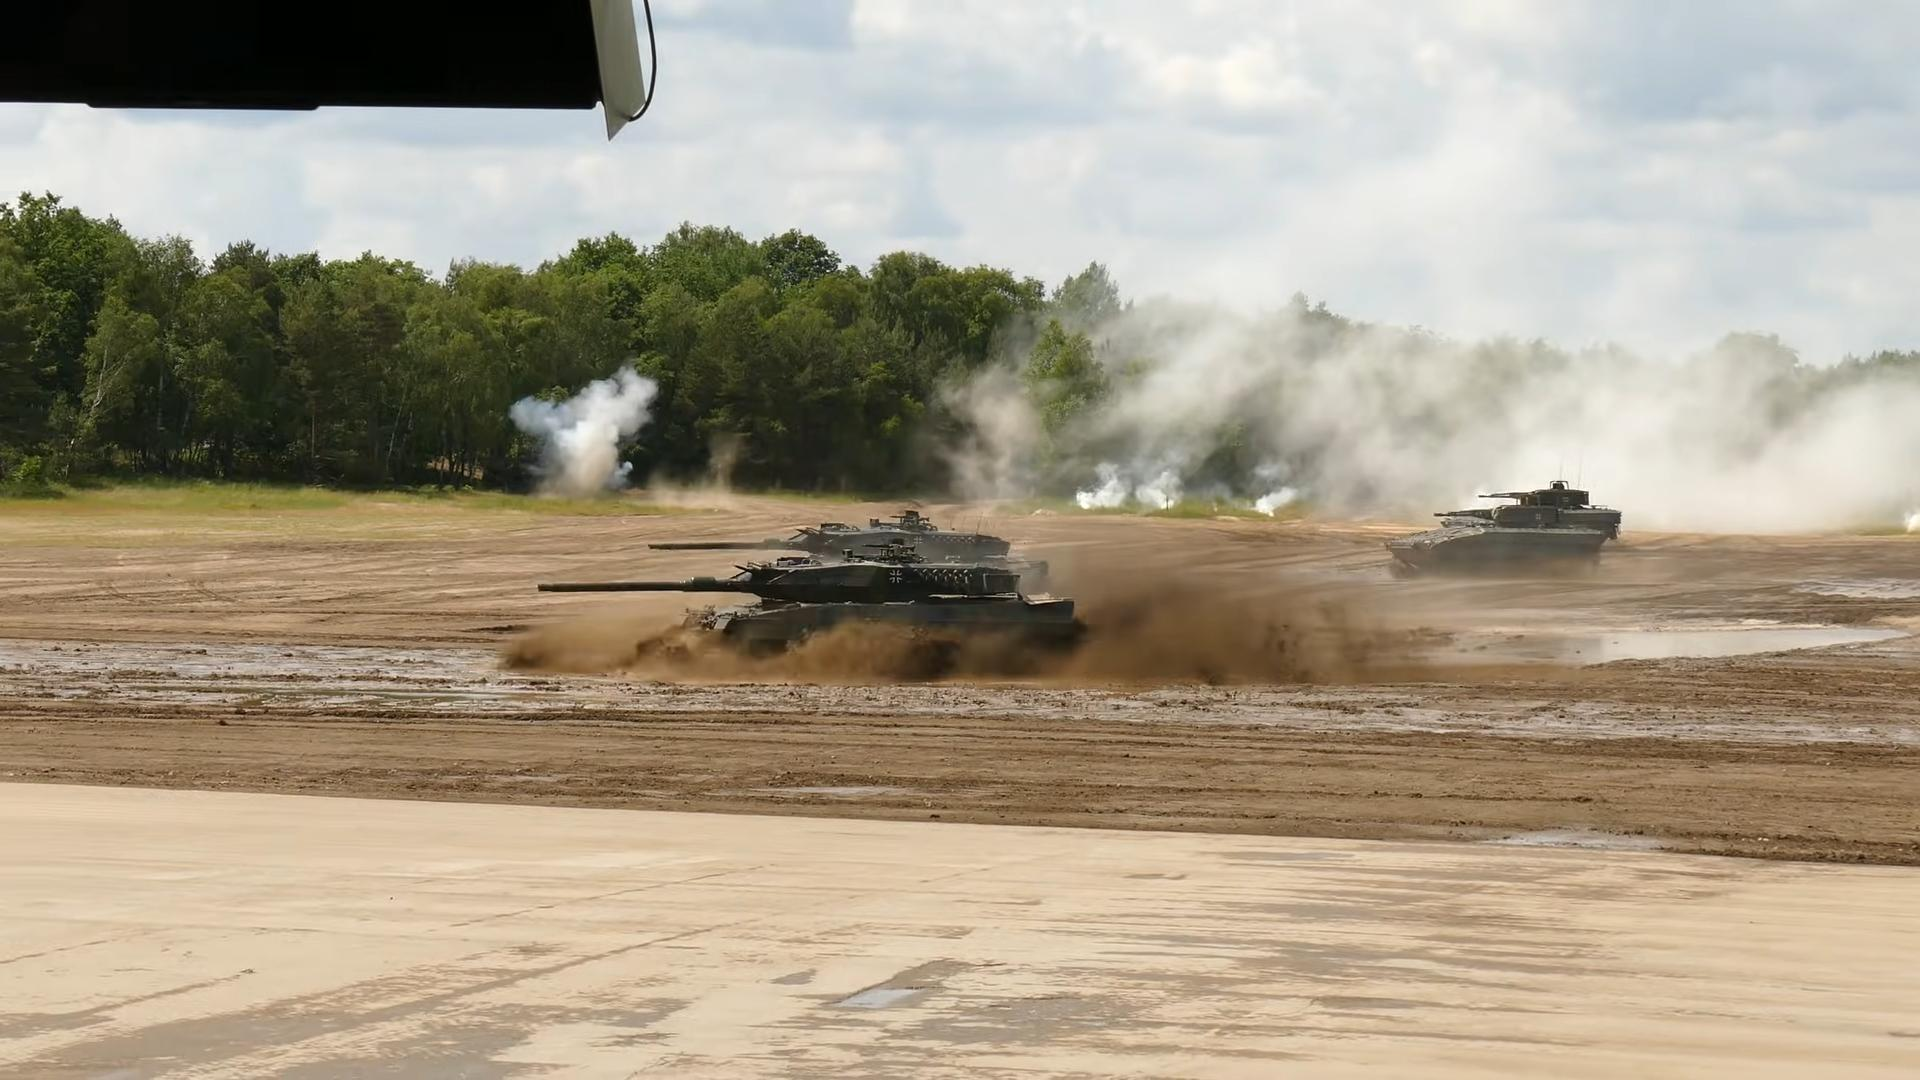tank: (539, 539, 1089, 678), (647, 512, 1051, 592), (1386, 492, 1609, 580), (1478, 480, 1622, 541)
